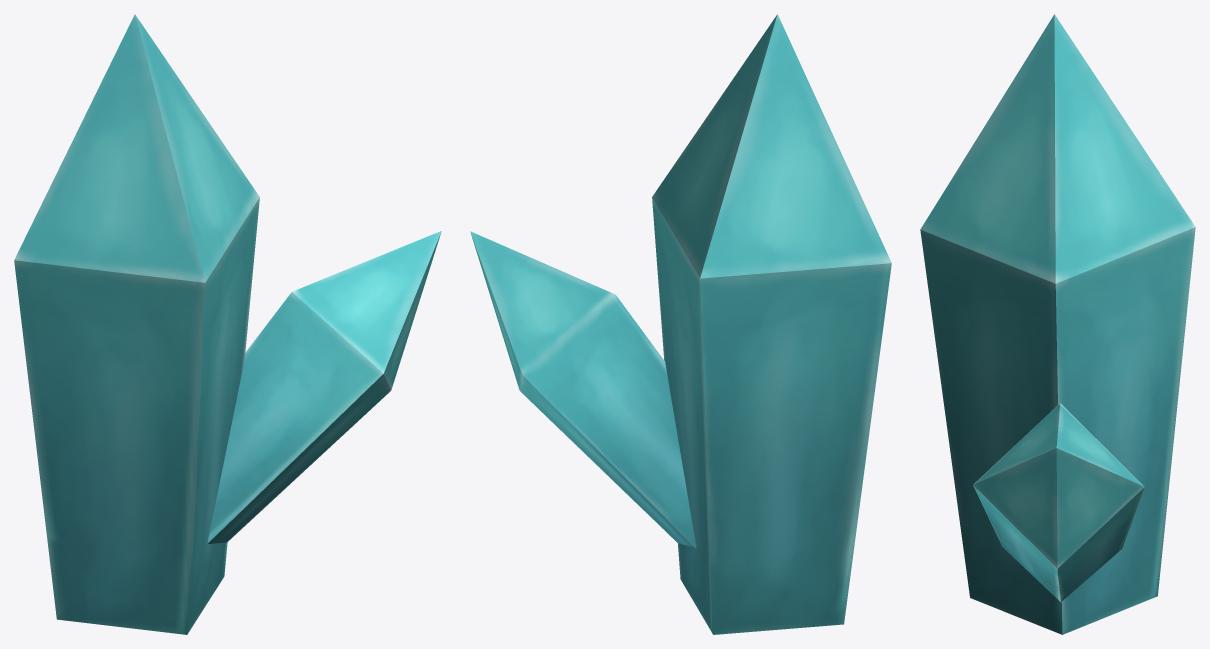
File: crystal_01.fbx
The picture shows the model from 3 angles, left to right: view 1: azimuth 30°, elevation 25°; view 2: azimuth 150°, elevation 25°; view 3: azimuth 270°, elevation 25°; orthographic projection. The views are drawn at different scales.
Visible parts, largest first — view 1: crystal_01Mesh; view 2: crystal_01Mesh; view 3: crystal_01Mesh.
Part boxes in pixels (x1=…): crystal_01Mesh: x1=14, y1=14, x2=441, y2=634; crystal_01Mesh: x1=470, y1=14, x2=891, y2=634; crystal_01Mesh: x1=920, y1=14, x2=1195, y2=634.
Size of the model in its own units: 0.5661 by 0.7519 by 0.3236.
1 material, 1 textured.
